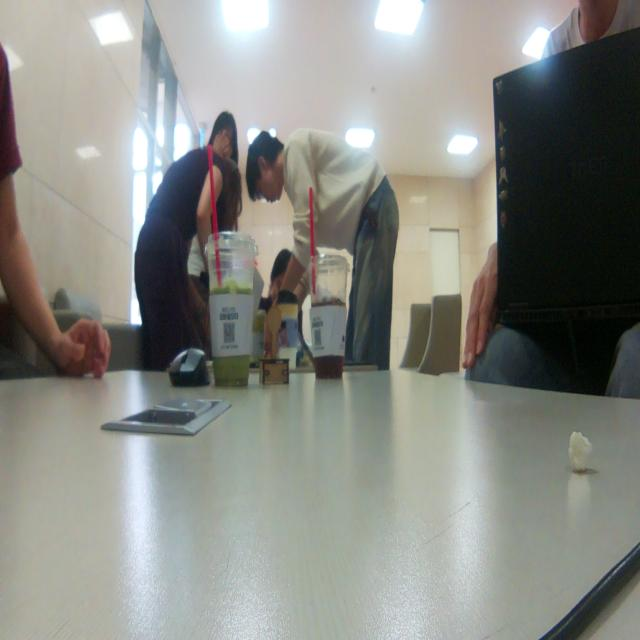target: (259, 304, 290, 384)
